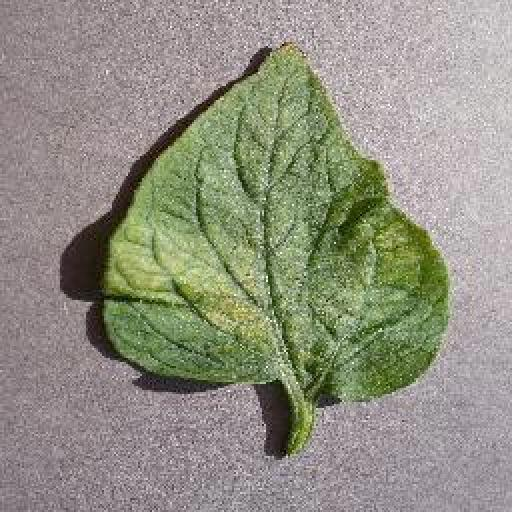disease_tomato: (100, 38, 446, 406)
